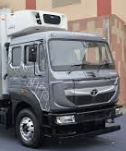truck: (1, 8, 124, 148)
